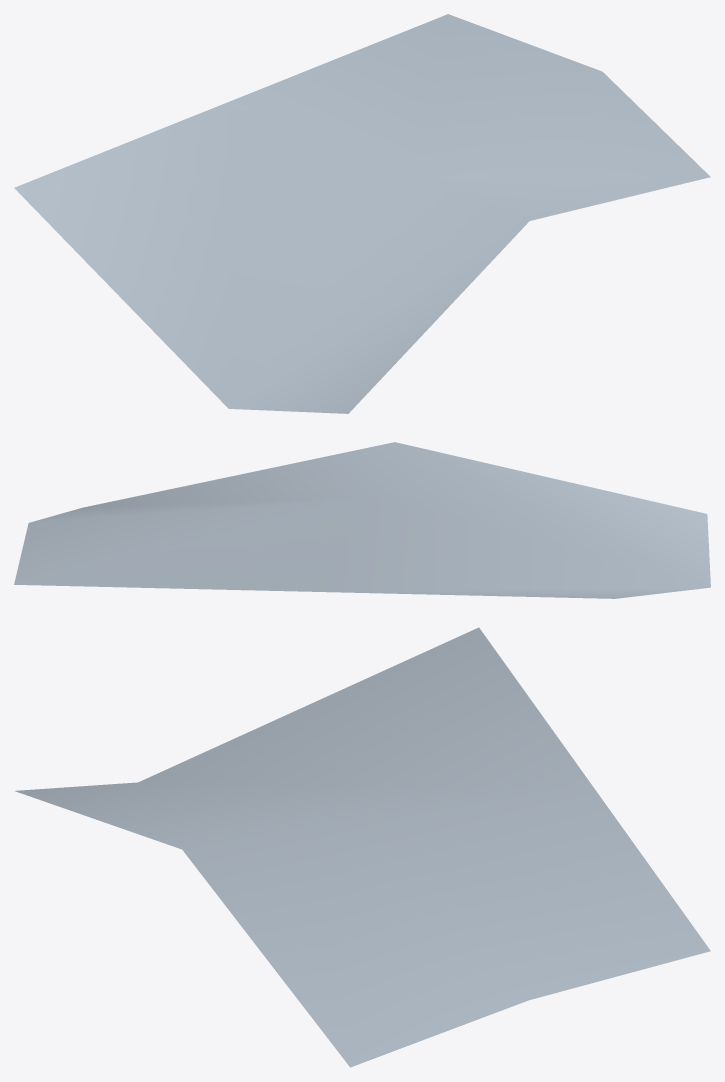
The model's file is calcaneocuboid-ligament-l.glb.
3 renders of one model, top to bottom at view 1: azimuth 30°, elevation 25°; view 2: azimuth 150°, elevation 25°; view 3: azimuth 270°, elevation 25°, orthographic. The views are drawn at different scales.
Visible parts, largest first — view 1: Calcaneocuboid ligament.l; view 2: Calcaneocuboid ligament.l; view 3: Calcaneocuboid ligament.l.
Part boxes in pixels (x1,y1,x2,y2): Calcaneocuboid ligament.l: (14,14,710,413); Calcaneocuboid ligament.l: (14,442,710,598); Calcaneocuboid ligament.l: (15,627,710,1067).
Size of the model in its own units: 0.00841 by 0.00149 by 0.00745.
